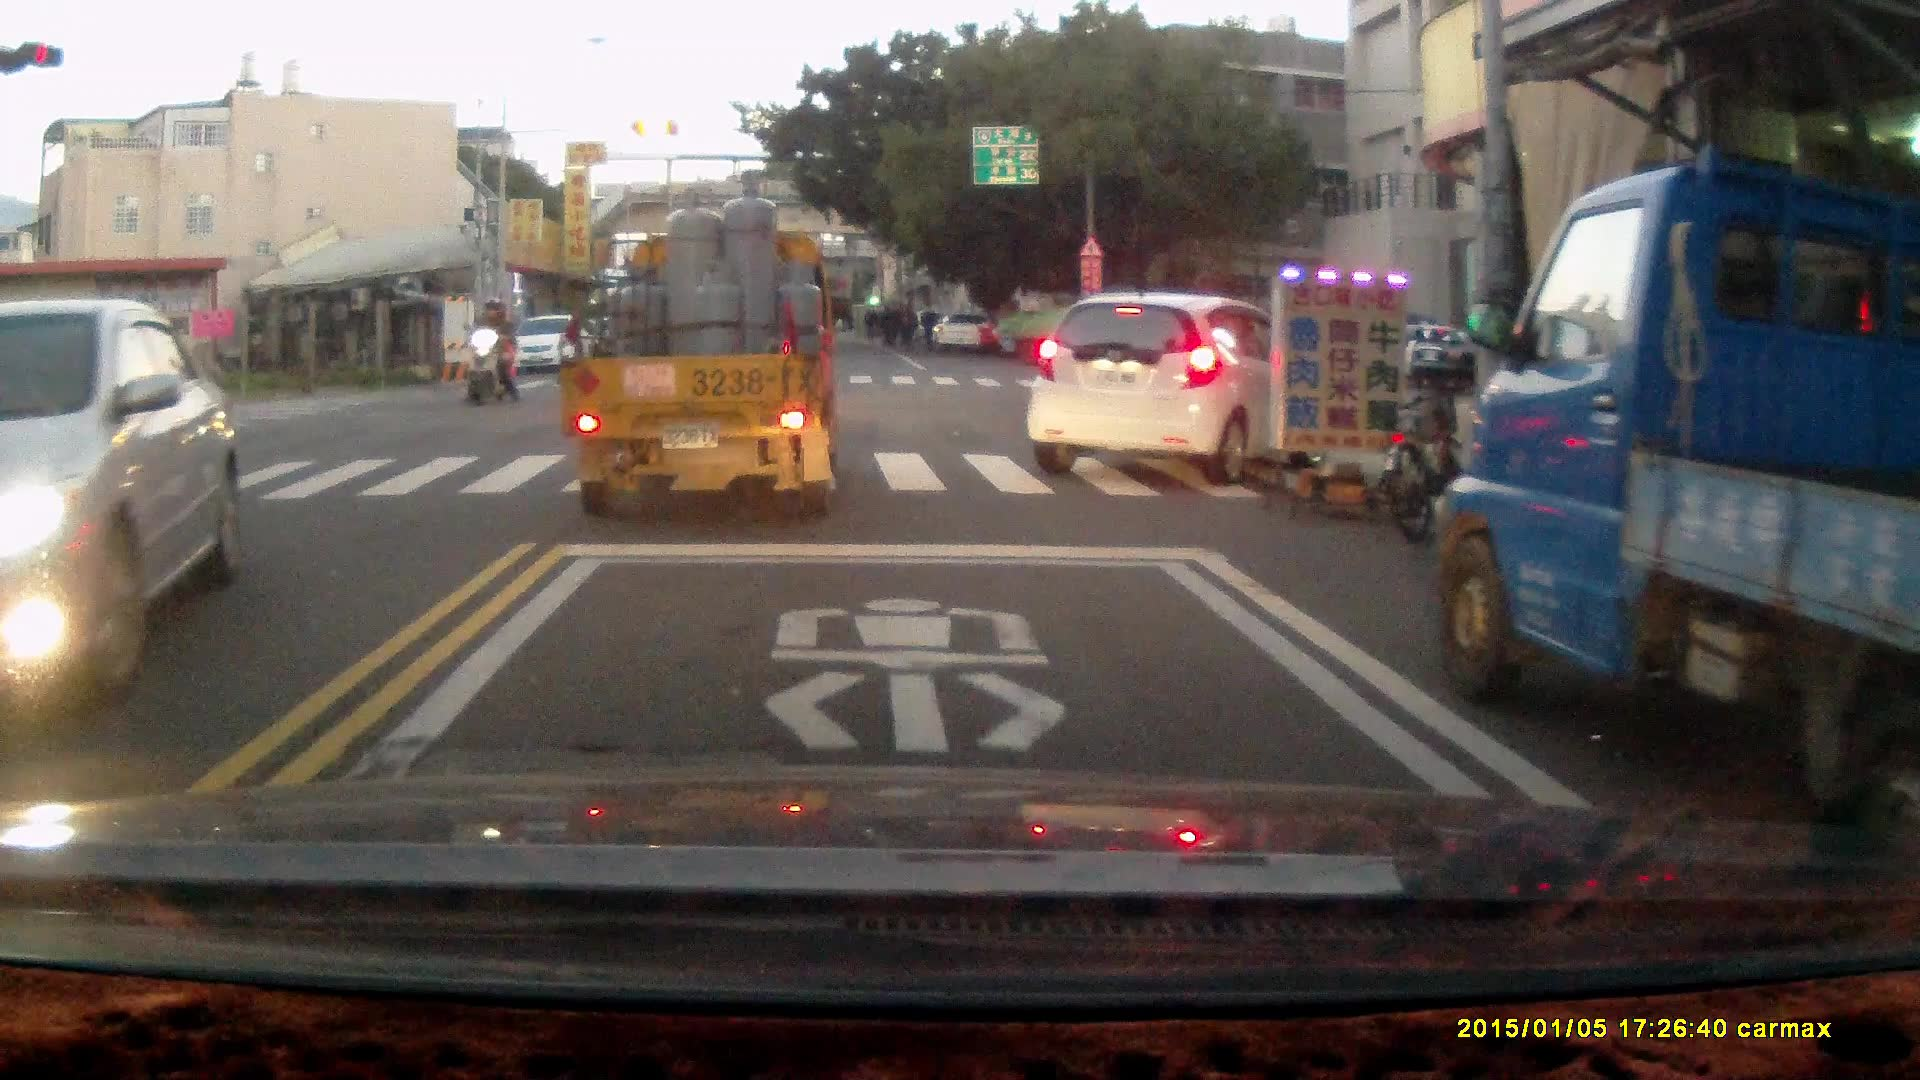rider: (462, 299, 517, 405)
vehicle: (1422, 164, 1920, 817), (1, 295, 238, 736), (558, 183, 845, 521), (1023, 287, 1301, 469), (507, 312, 588, 379)
